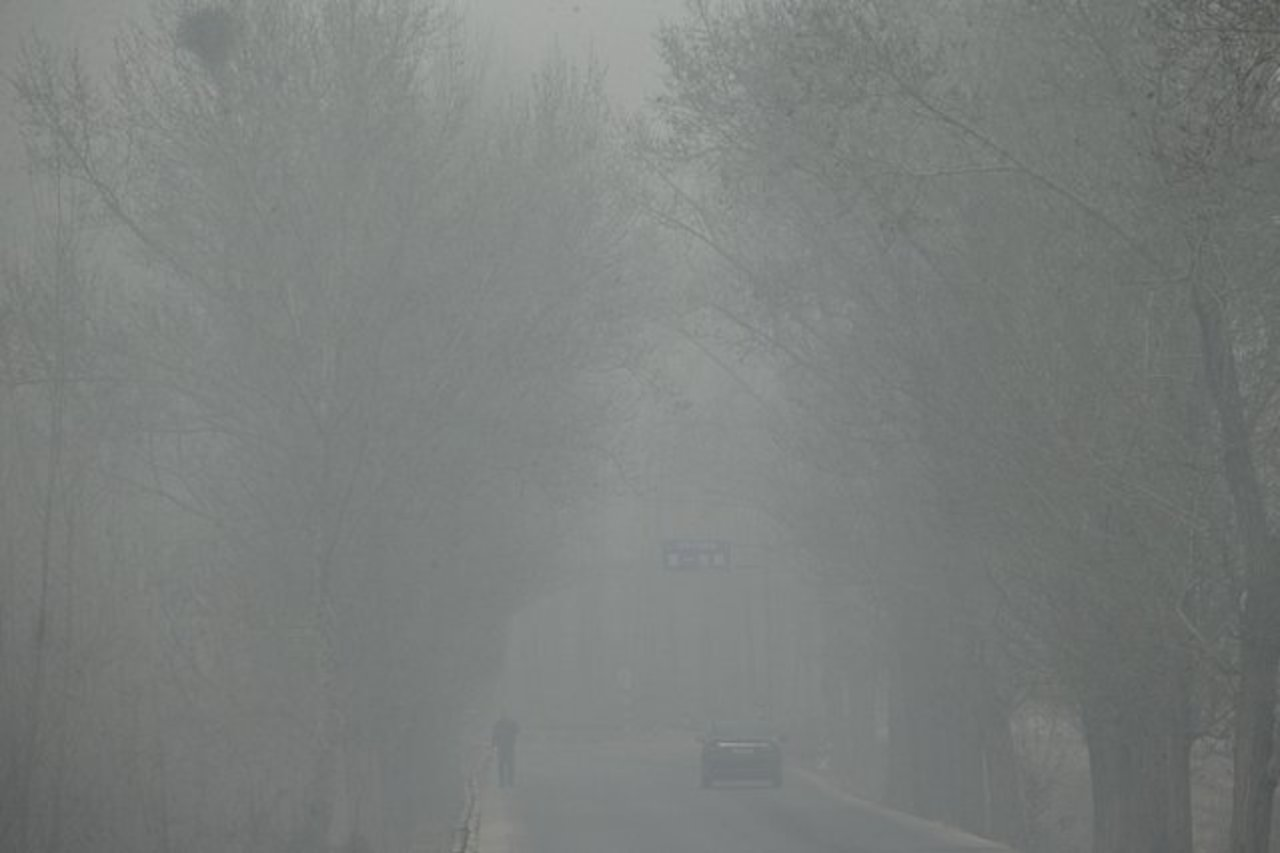car: (692, 714, 790, 790)
person: (493, 711, 520, 788)
